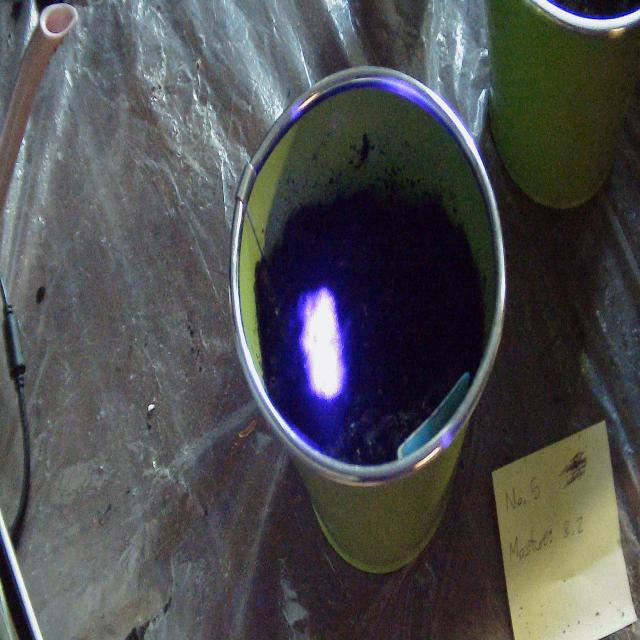soil-moisture-8.2: (292, 281, 352, 408)
